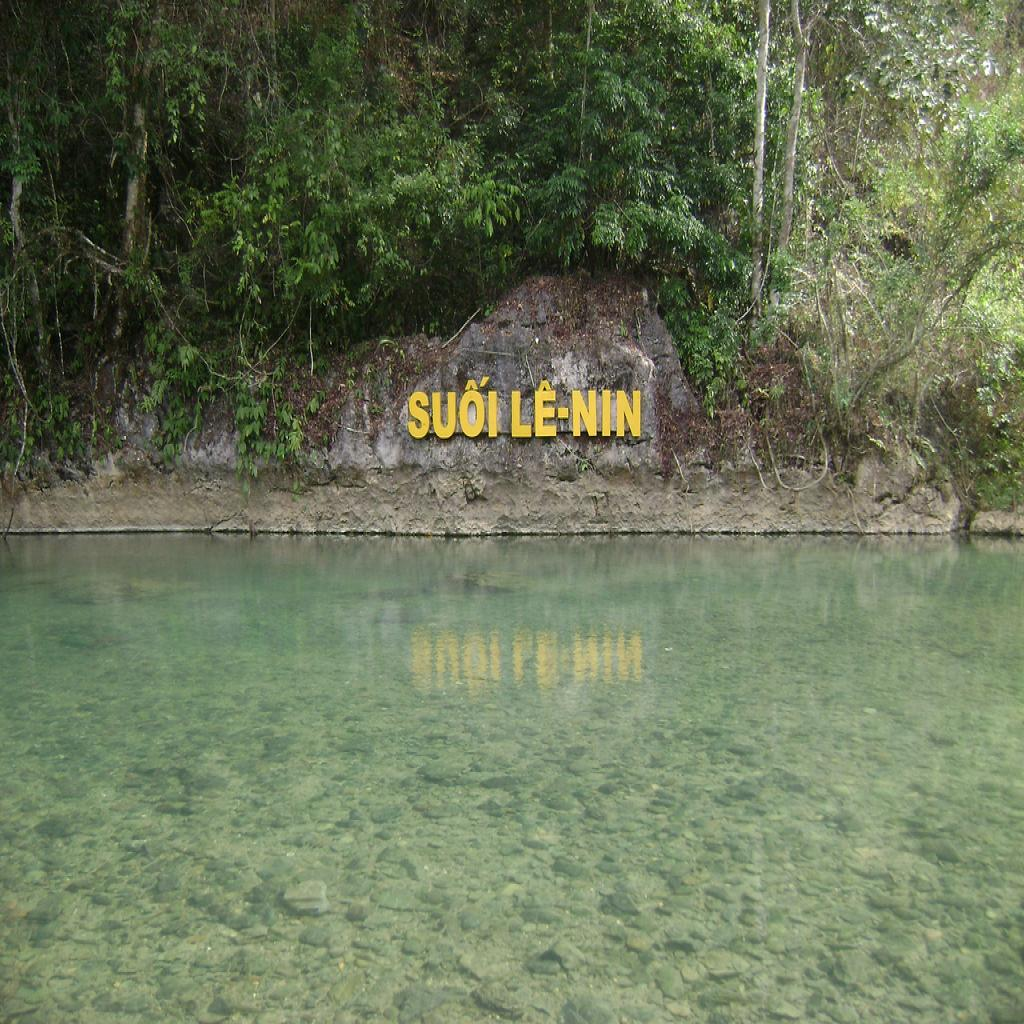text: (408, 376, 501, 445)
